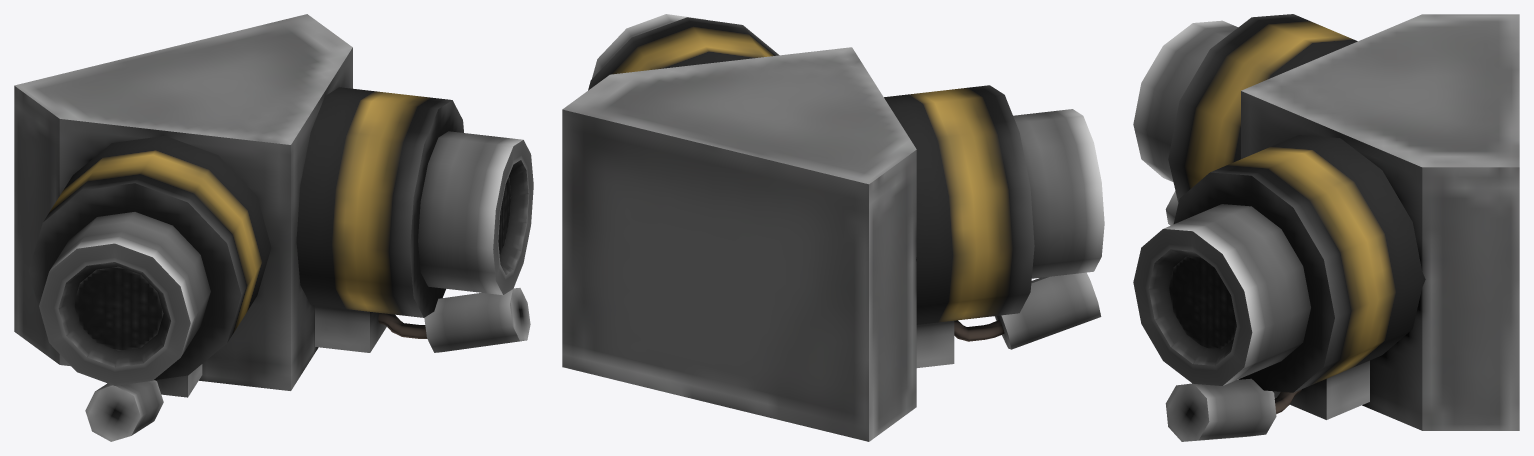
The model's file is bluedog_ECRS_2Way.fbx.
3 views of the same model, side by side, from view 1: azimuth 30°, elevation 25°; view 2: azimuth 150°, elevation 25°; view 3: azimuth 270°, elevation 25° (orthographic). The views are drawn at different scales.
Visible parts, largest first — view 1: polySurface25, polySurface23, polySurface20; view 2: polySurface25; view 3: polySurface25, polySurface20.
Part boxes in pixels (<box>): polySurface25: <box>14,14,523,435</box>; polySurface23: <box>39,243,190,441</box>; polySurface20: <box>493,140,533,340</box>; polySurface25: <box>562,14,1104,441</box>; polySurface25: <box>1133,14,1519,441</box>; polySurface20: <box>1133,229,1252,441</box>.
Size of the model in its own units: 0.1597 by 0.0764 by 0.1009.
Materials: 1 (1 with a texture image).
